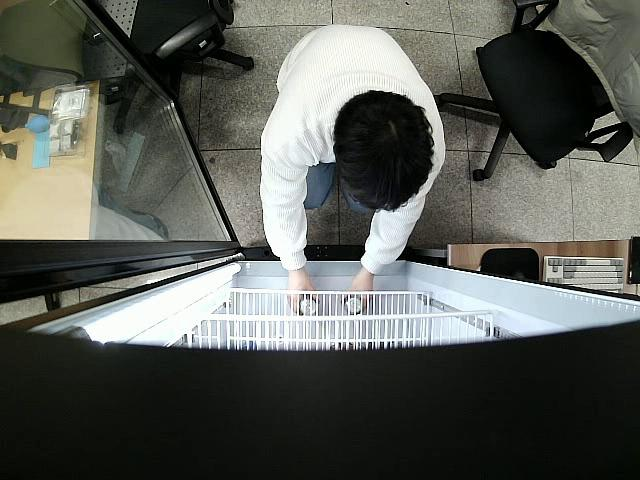00_hand: (285, 276, 321, 316), (341, 275, 375, 315)
